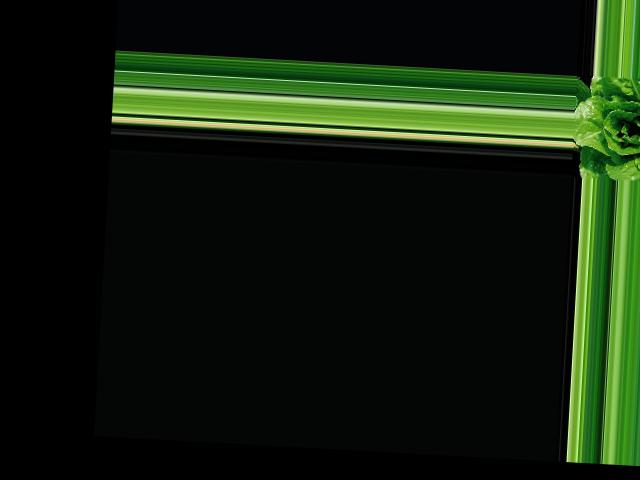lettuce: (576, 74, 640, 180)
